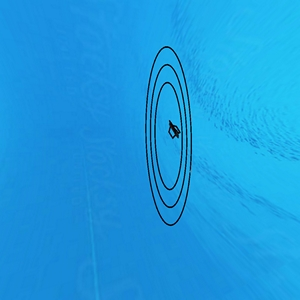circle: (142, 40, 198, 231)
submarine: (166, 122, 184, 141)
